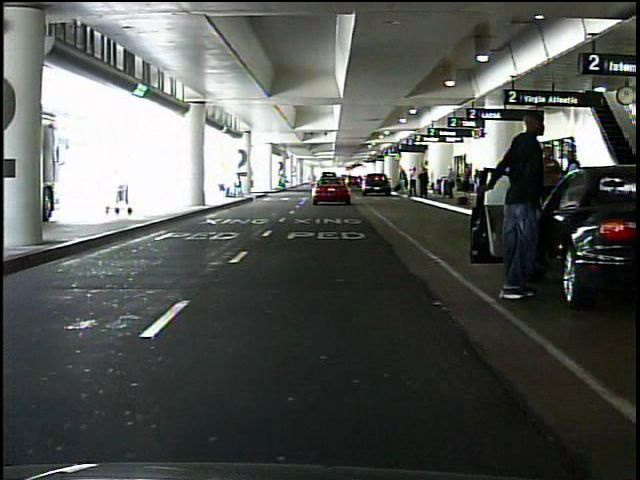person: (487, 108, 560, 307), (537, 145, 565, 235), (562, 148, 584, 230), (462, 163, 474, 206), (445, 167, 458, 201), (418, 168, 430, 201), (408, 167, 419, 200), (400, 170, 410, 197), (278, 173, 287, 190)
